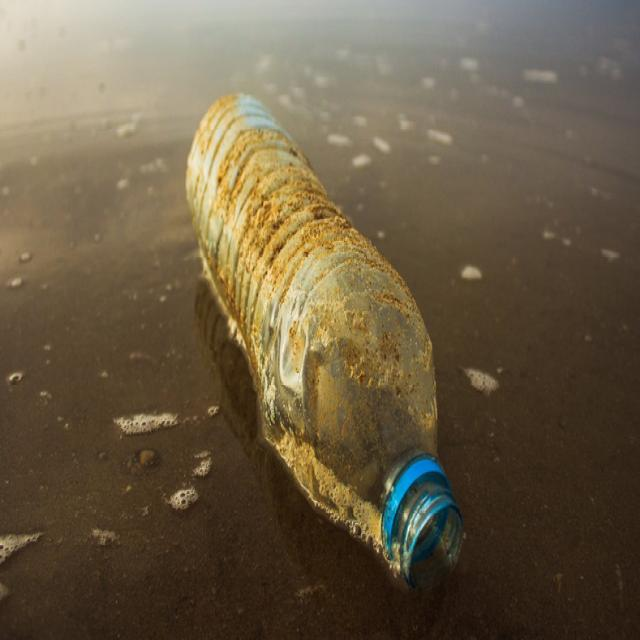Plastic Bottle: (185, 87, 468, 597)
